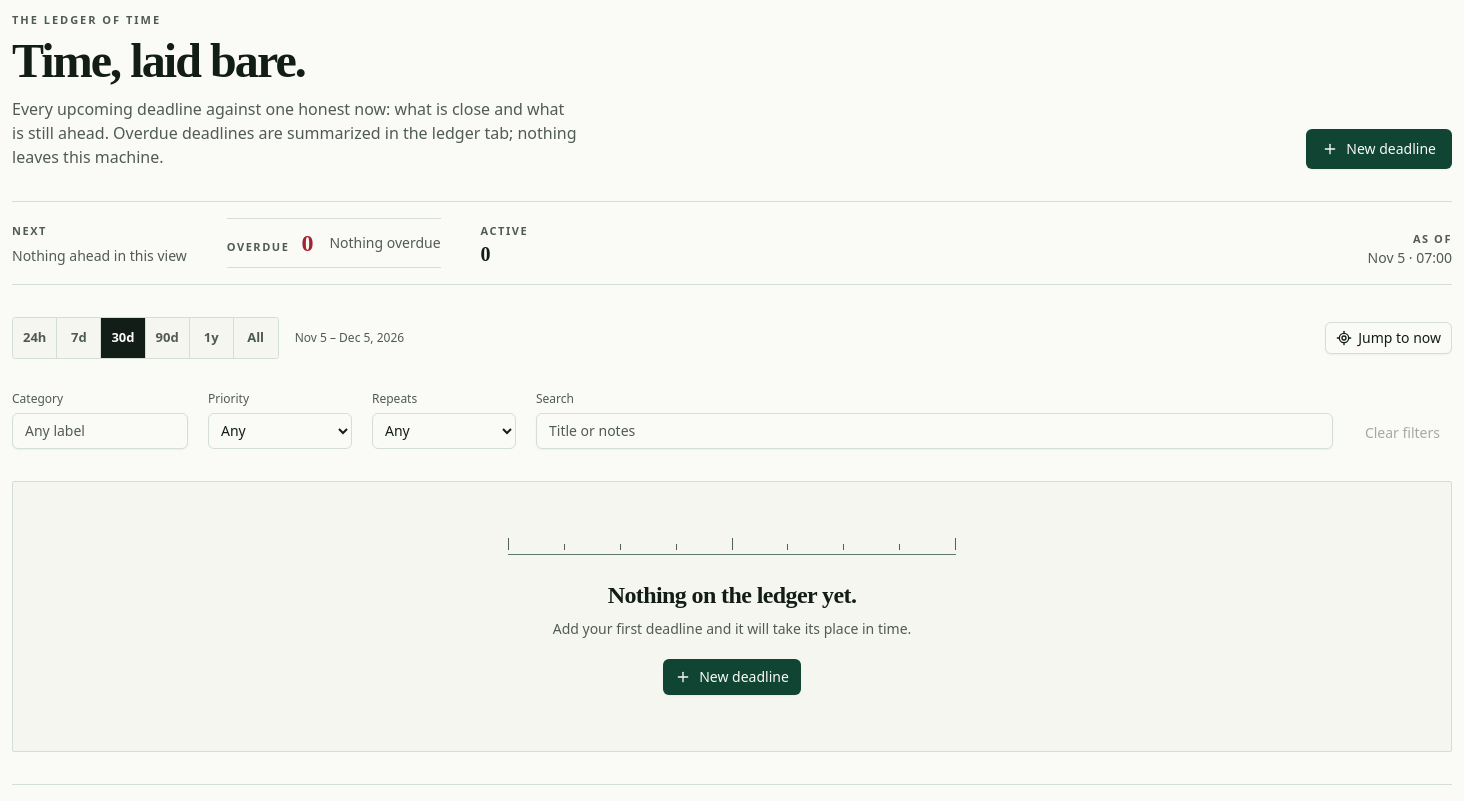
Test: TimelinePage upcoming focus › shows the filtered no-results state when nothing matches at all
The width and height of the screenshot is (1464, 801).
Expected: the heading "Nothing on the ledger yet." is shown, 608,582 -> 856,608
Type "Missing category" into the field labelled "Category" at (100, 430), box 12,412 -> 188,448
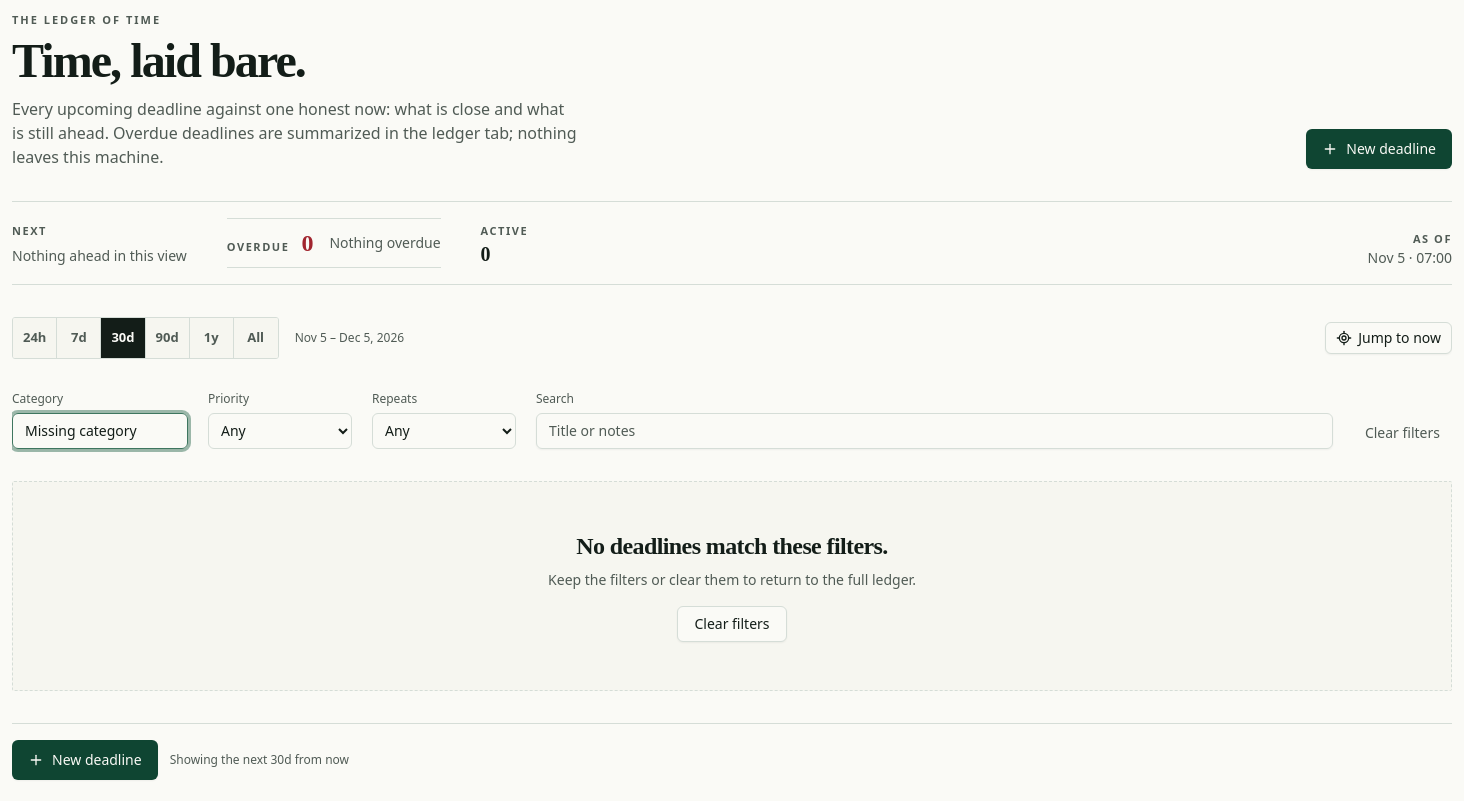
Now the heading "No deadlines match these filters." is shown, box 576,532 -> 888,558
Now the button "Clear filters" below "No deadlines match these filters." is shown, box 677,606 -> 786,642
